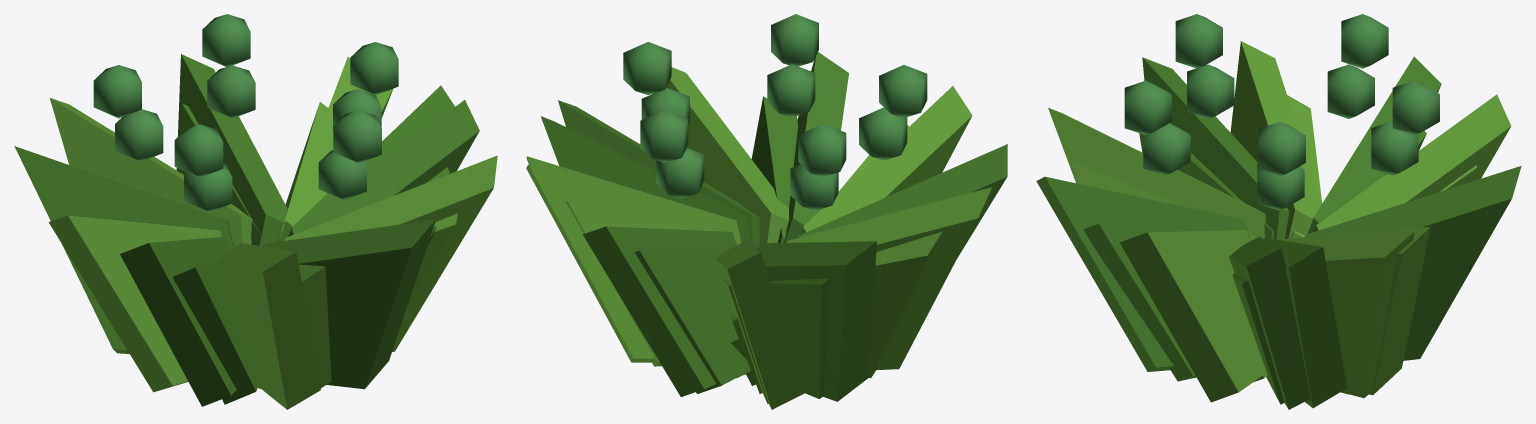
Rendered from Crop_Crop_Herb.fbx.
3 views of the same model, side by side, from view 1: azimuth 30°, elevation 25°; view 2: azimuth 150°, elevation 25°; view 3: azimuth 270°, elevation 25° (orthographic). The views are drawn at different scales.
Parts seen in each view (by area): view 1: Crop_Crop_Herb__S4, Crop_Crop_Herb__S3; view 2: Crop_Crop_Herb__S4, Crop_Crop_Herb__S3, Crop_Crop_Herb__S2; view 3: Crop_Crop_Herb__S4, Crop_Crop_Herb__S3.
Part boxes in pixels (left/top/right/bottom): Crop_Crop_Herb__S4: left=14, top=14, right=497, bottom=409; Crop_Crop_Herb__S3: left=115, top=65, right=457, bottom=404; Crop_Crop_Herb__S4: left=526, top=14, right=1007, bottom=409; Crop_Crop_Herb__S3: left=566, top=64, right=942, bottom=403; Crop_Crop_Herb__S2: left=730, top=312, right=762, bottom=393; Crop_Crop_Herb__S4: left=1036, top=14, right=1521, bottom=409; Crop_Crop_Herb__S3: left=1072, top=64, right=1477, bottom=404.
Size of the model in its own units: 0.0982 by 0.0671 by 0.0964.
